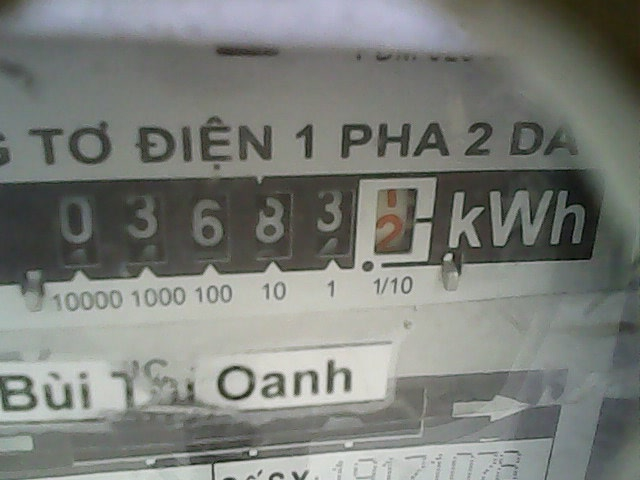phy_plate: (41, 170, 438, 275)
